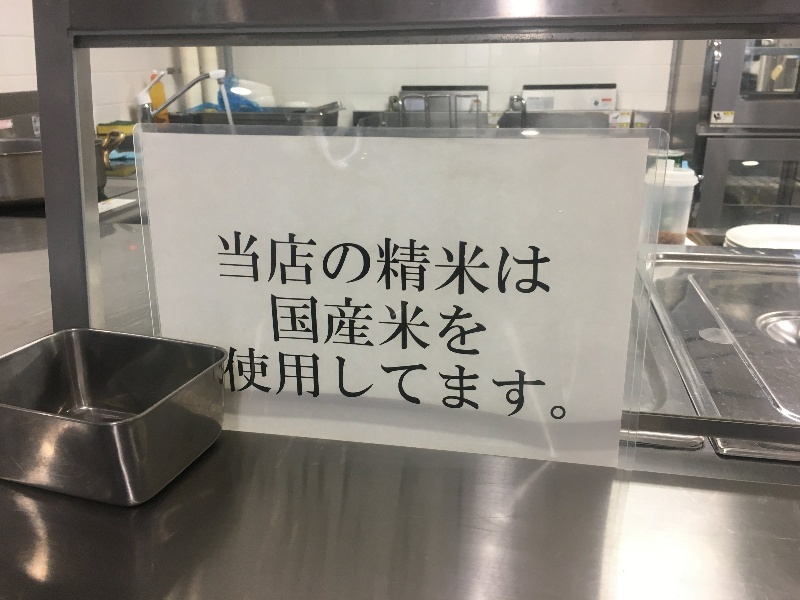text: (225, 343, 240, 422), (241, 343, 256, 422), (257, 343, 272, 422), (273, 343, 288, 422), (289, 343, 304, 422), (305, 343, 320, 422), (321, 343, 336, 422), (337, 343, 352, 422), (353, 343, 368, 422), (369, 343, 384, 422), (385, 343, 400, 422), (401, 343, 416, 422), (417, 343, 432, 422), (433, 343, 448, 422), (449, 343, 464, 422), (465, 343, 480, 422), (481, 343, 496, 422), (497, 343, 512, 422), (513, 343, 528, 422), (529, 343, 544, 422), (545, 343, 560, 422), (225, 225, 240, 298), (241, 225, 256, 298), (257, 225, 272, 298), (273, 225, 288, 298), (289, 225, 304, 298), (305, 225, 320, 298), (321, 225, 336, 298), (337, 225, 352, 298), (353, 225, 368, 298), (369, 225, 384, 298), (385, 225, 400, 298), (401, 225, 416, 298), (417, 225, 432, 298), (433, 225, 448, 298), (449, 225, 464, 298), (465, 225, 480, 298), (481, 225, 496, 298), (497, 225, 512, 298), (513, 225, 528, 298), (529, 225, 544, 298), (273, 294, 288, 358), (289, 294, 304, 358), (305, 294, 320, 358), (321, 294, 336, 358), (337, 294, 352, 358), (353, 294, 368, 358), (369, 294, 384, 358), (385, 294, 400, 358), (401, 294, 416, 358), (417, 294, 432, 358), (433, 294, 448, 358), (449, 294, 464, 358), (465, 294, 480, 358), (218, 225, 224, 298), (545, 225, 551, 298), (561, 343, 566, 422), (481, 294, 487, 358), (271, 294, 272, 358)
